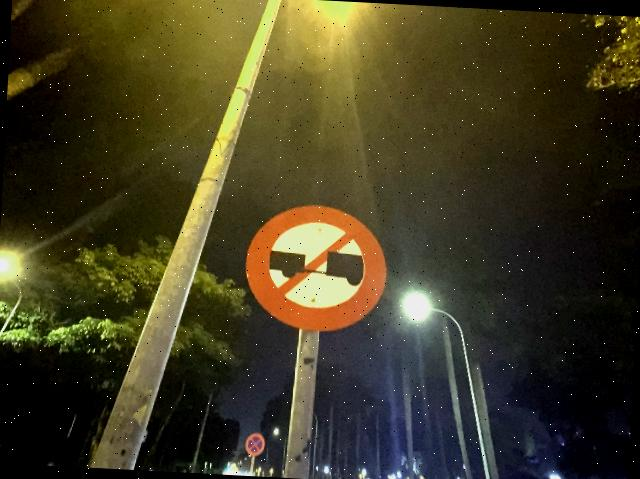cam-xe-somi-romooc: (242, 200, 390, 334)
